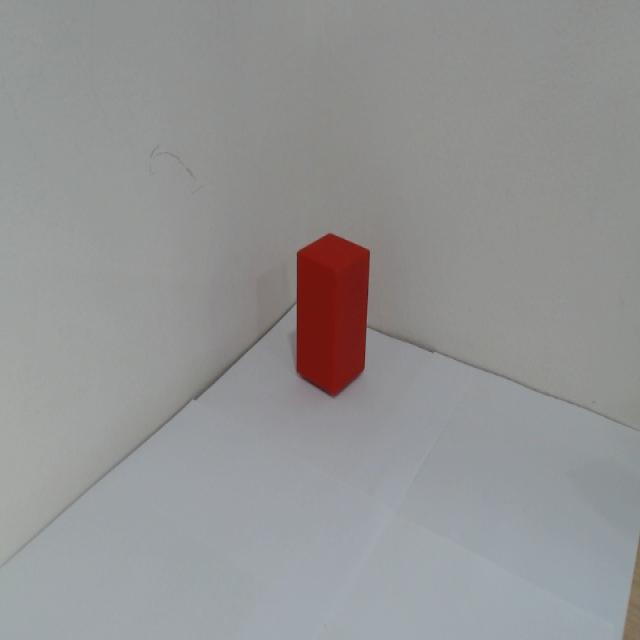cube: (293, 230, 372, 399)
